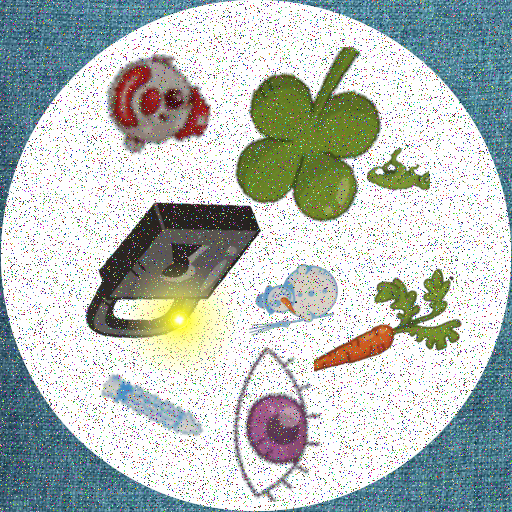carrot_icon: (314, 255, 478, 419)
cloverleaf_icon: (228, 46, 420, 238)
clown_icon: (103, 54, 211, 162)
dino_icon: (367, 148, 430, 211)
eye_icon: (194, 347, 349, 502)
lock_icon: (81, 175, 268, 362)
pen_icon: (100, 355, 206, 461)
snowman_icon: (244, 257, 342, 355)
